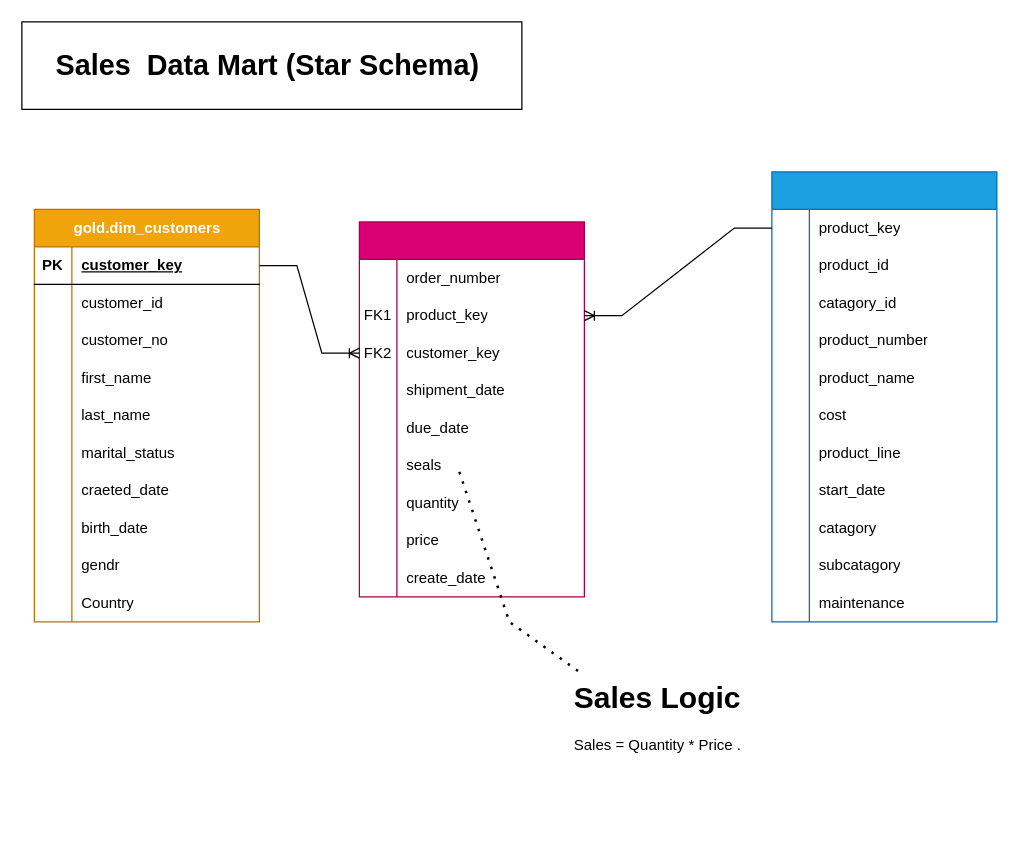
This 1019x848 diagram has some shape labels left out. Here are the shapes that lost their labels. From the top down, the box of each, then its label:
(358, 221, 584, 597): gold.fact_sales
(771, 171, 997, 622): gold.dim_product
